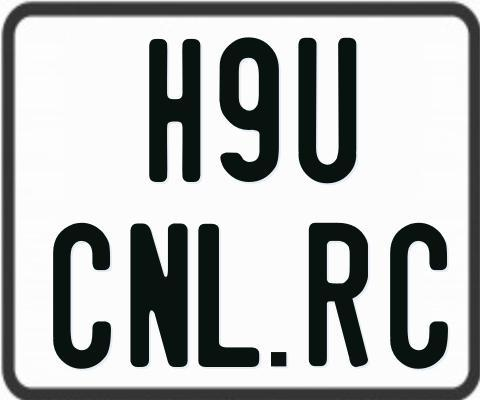9: (219, 36, 285, 181)
C: (387, 220, 450, 367), (52, 220, 110, 367)
H: (146, 39, 197, 188)
L: (197, 224, 262, 373)
N: (129, 224, 192, 373)
R: (309, 222, 370, 367)
U: (297, 38, 355, 189)
